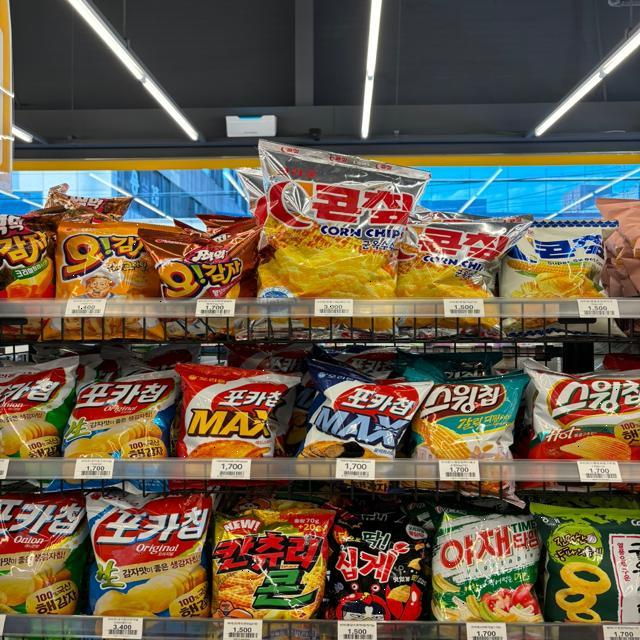product: (257, 146, 417, 322), (89, 496, 206, 614), (213, 503, 328, 620), (436, 508, 544, 627), (527, 362, 640, 470), (172, 364, 290, 467), (412, 373, 515, 487), (59, 224, 162, 336), (158, 229, 258, 330), (334, 518, 428, 623)
